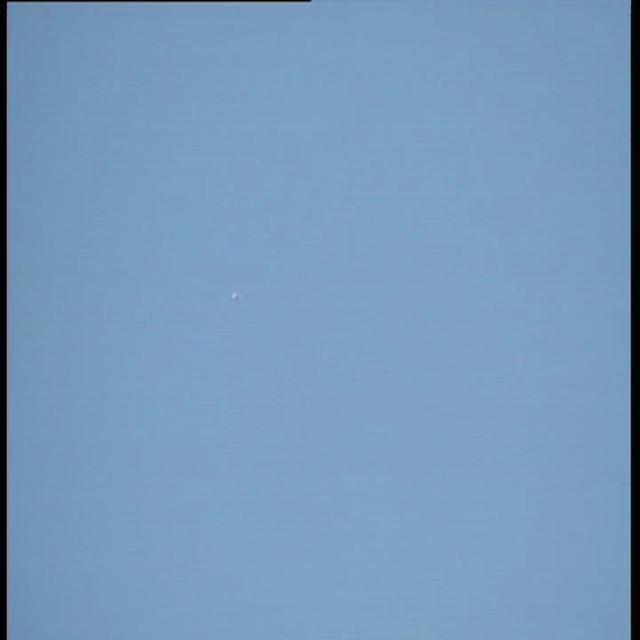drone: (230, 286, 248, 306)
